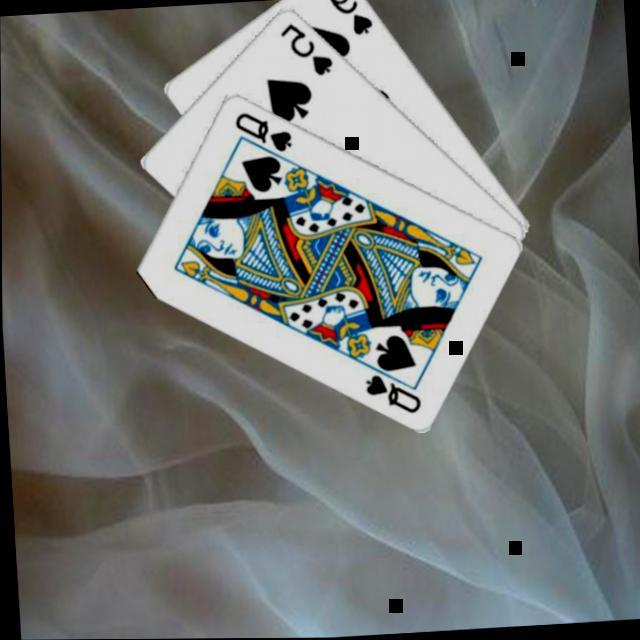5S: (276, 19, 336, 82)
9S: (323, 0, 375, 41)
QS: (230, 109, 296, 160), (360, 370, 424, 420)
